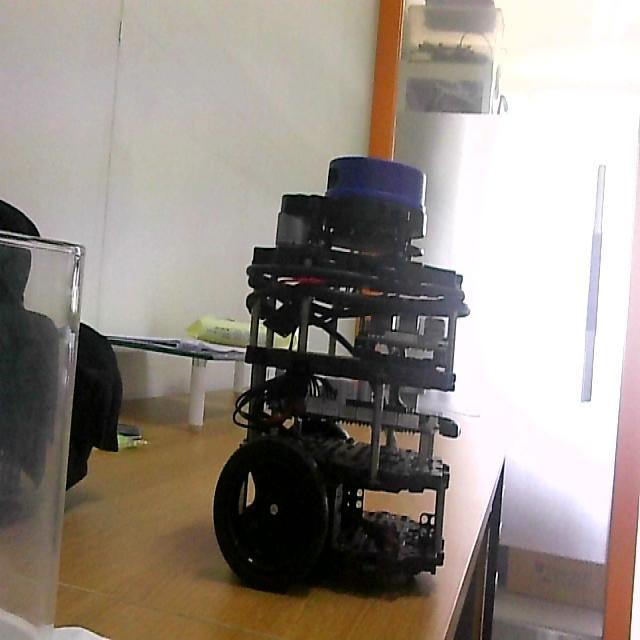turtle: (209, 152, 473, 596)
